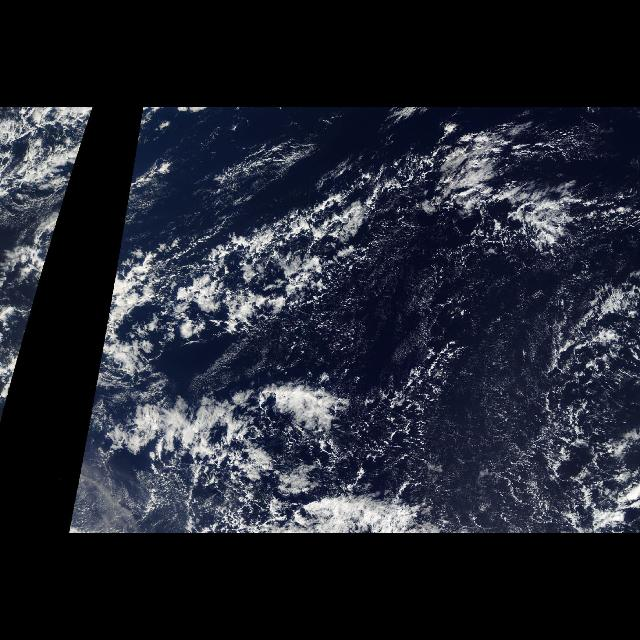Fish: (147, 116, 631, 528)
Gravel: (362, 300, 640, 524)
